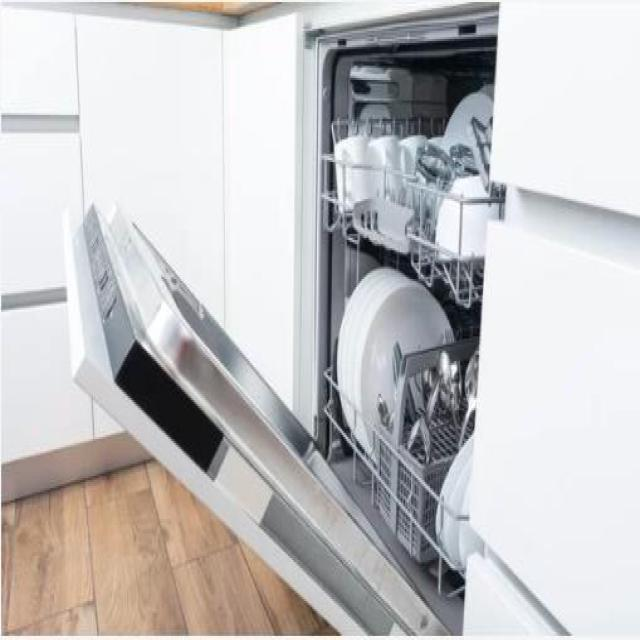dishwasher: (69, 0, 498, 638)
